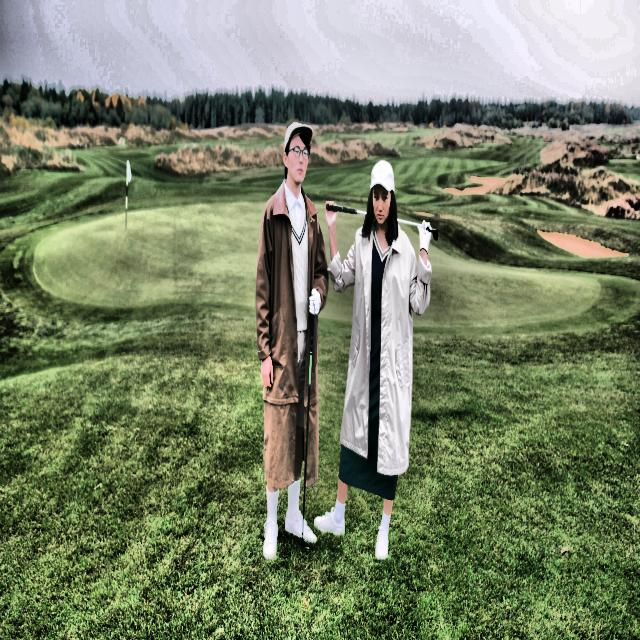gloved: (418, 215, 434, 263), (306, 283, 324, 321), (322, 196, 340, 233), (258, 351, 274, 390)
